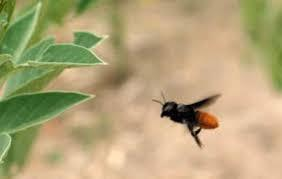Meliponula: (150, 89, 226, 151)
